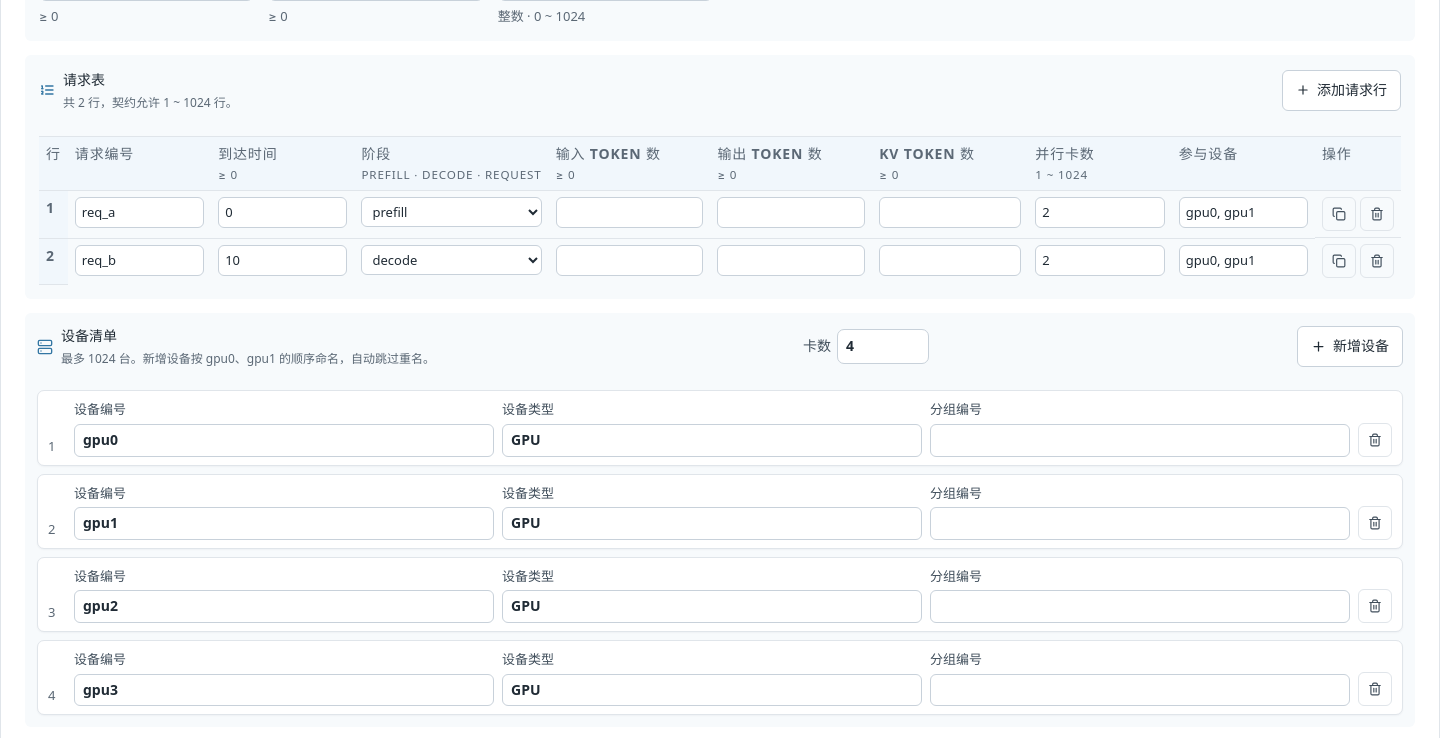
structured input panel › refuses a card count above the contract ceiling
(page scrolled)
Replace the text in the number field labelled "卡数" with "1025" at (883,346), box [837,329,929,364]
(page scrolled)
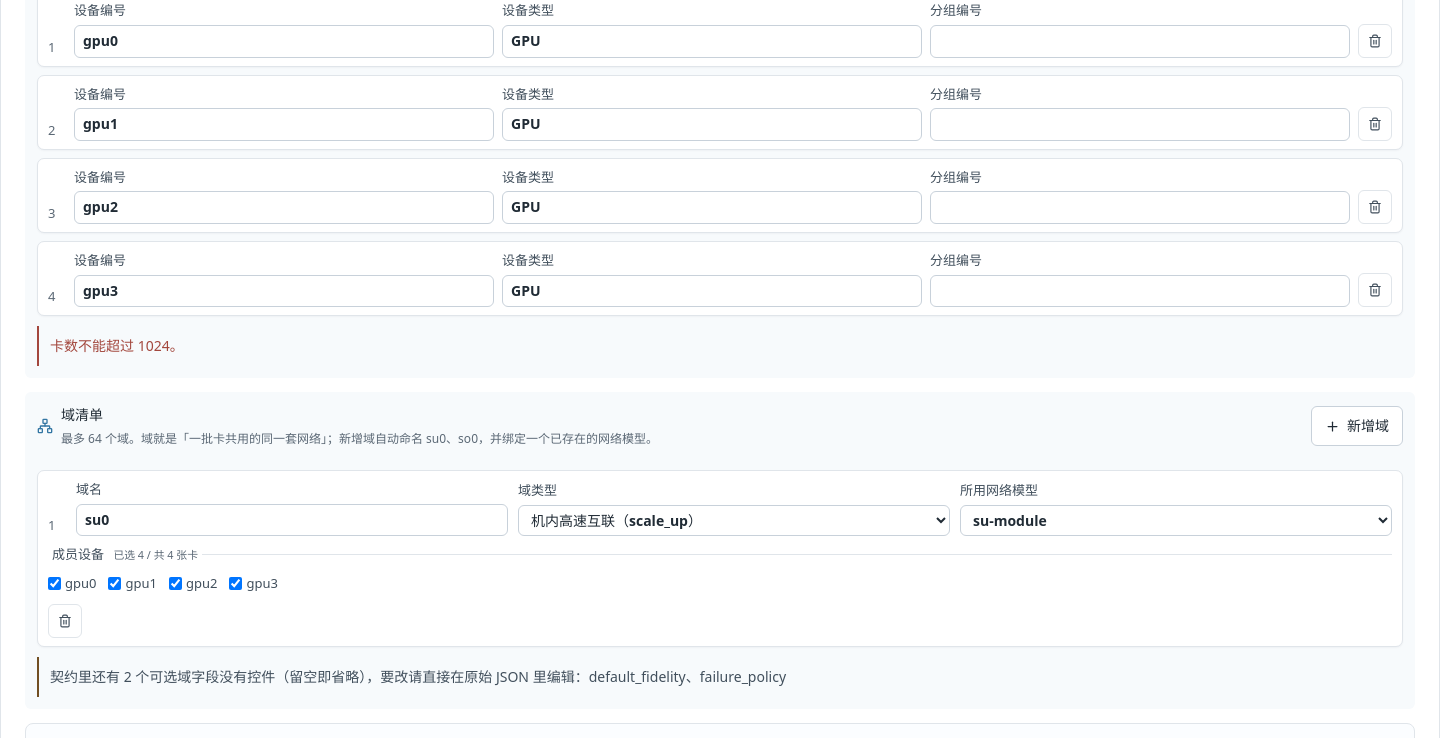
Expected: the message with class "structured-note--error" shows "1024", [50,336,184,355]
